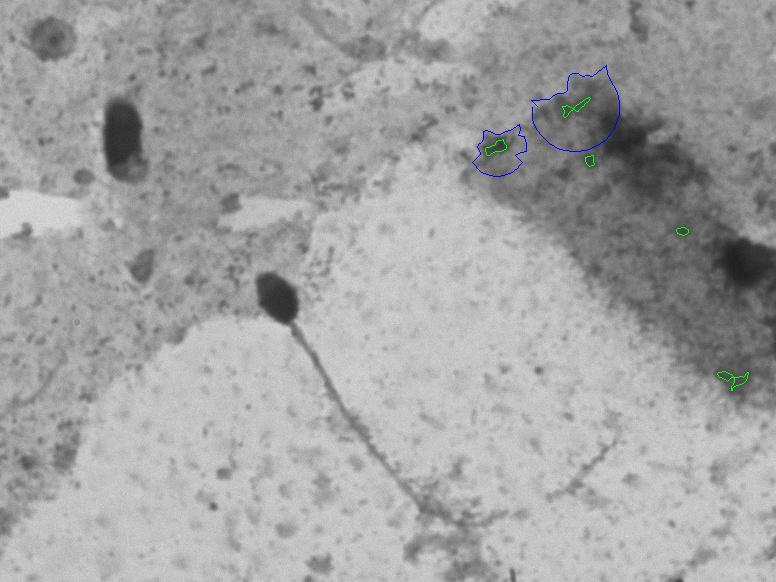Abnormal: (236, 239, 528, 549)
